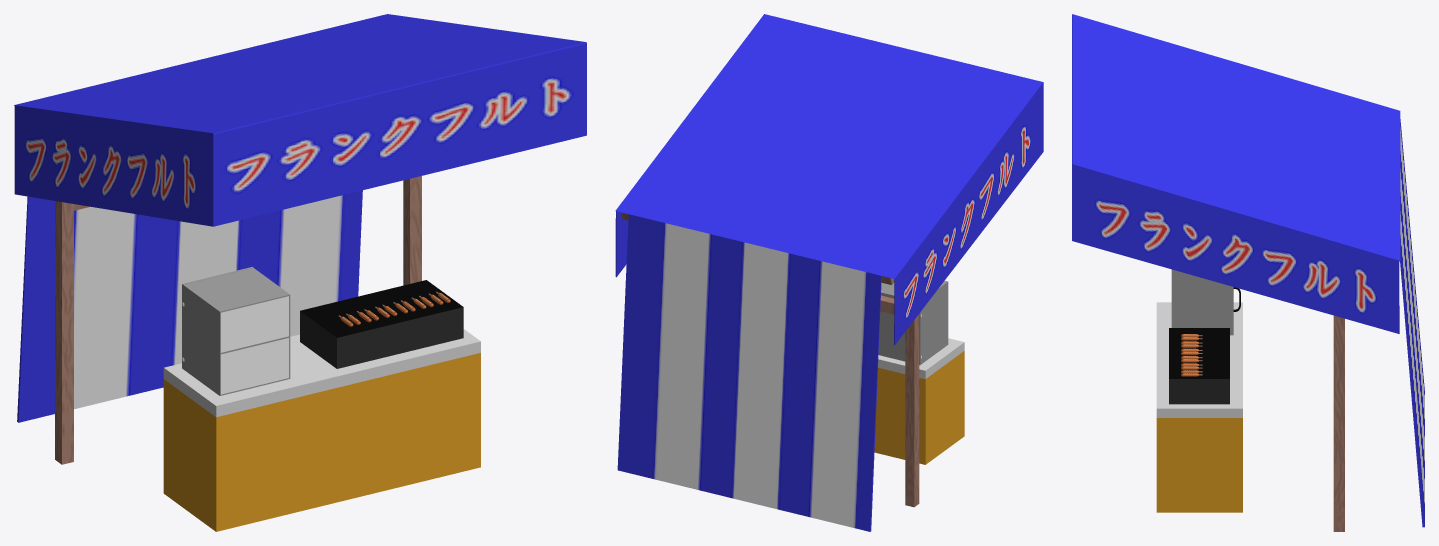
File: Frankfurt.FBX
3 renders of one model, left to right at view 1: azimuth 30°, elevation 25°; view 2: azimuth 150°, elevation 25°; view 3: azimuth 270°, elevation 25°, orthographic. The views are drawn at different scales.
Parts seen in each view (by area): view 1: Frankfurt; view 2: Frankfurt; view 3: Frankfurt.
Part boxes in pixels (x1,y1,x2,y2): Frankfurt: (14, 14, 586, 531); Frankfurt: (615, 14, 1043, 531); Frankfurt: (1072, 14, 1424, 531).
Size of the model in its own units: 155 by 178 by 154.
Materials: 5 (1 with a texture image).
